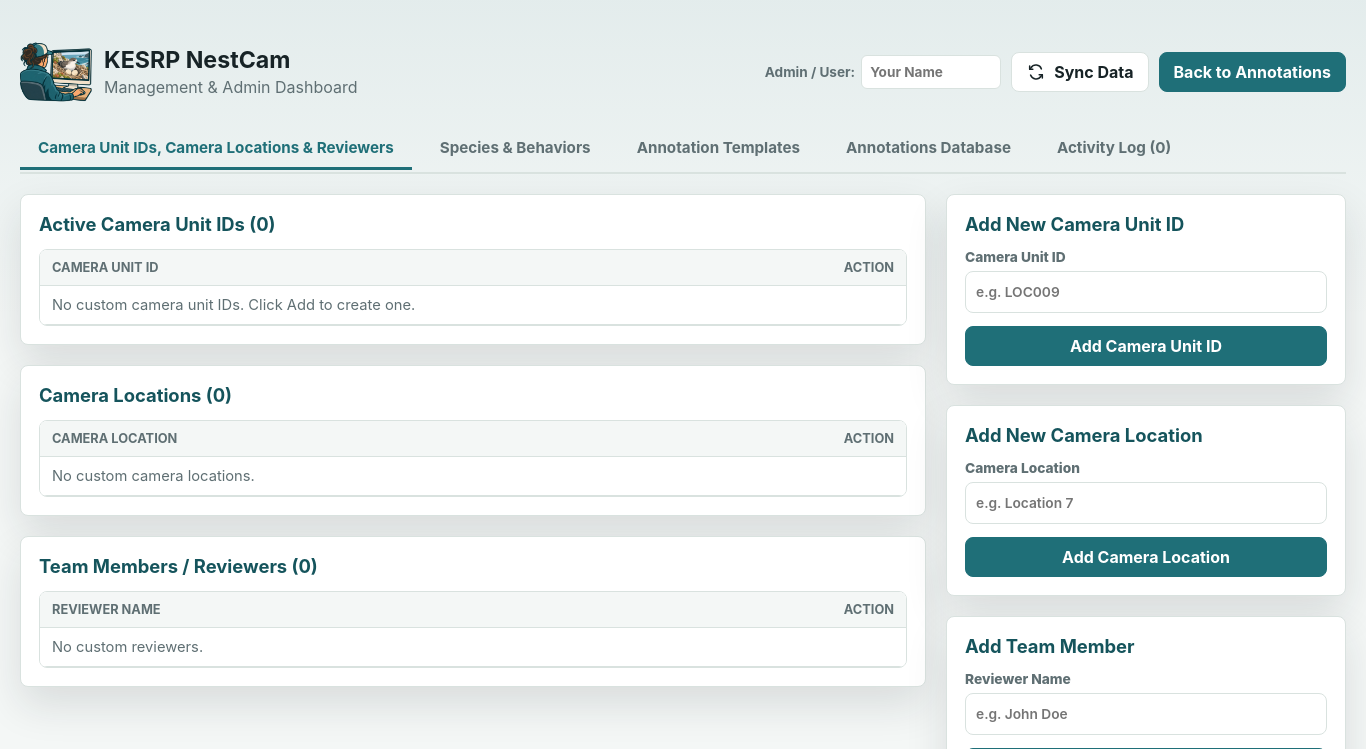
Test: ManagementDashboard › can switch to the Annotations Database tab and view controls
The image size is (1366, 749).
Click the button "Annotations Database".
click(928, 149)  # box x1=828 y1=128 x2=1029 y2=170
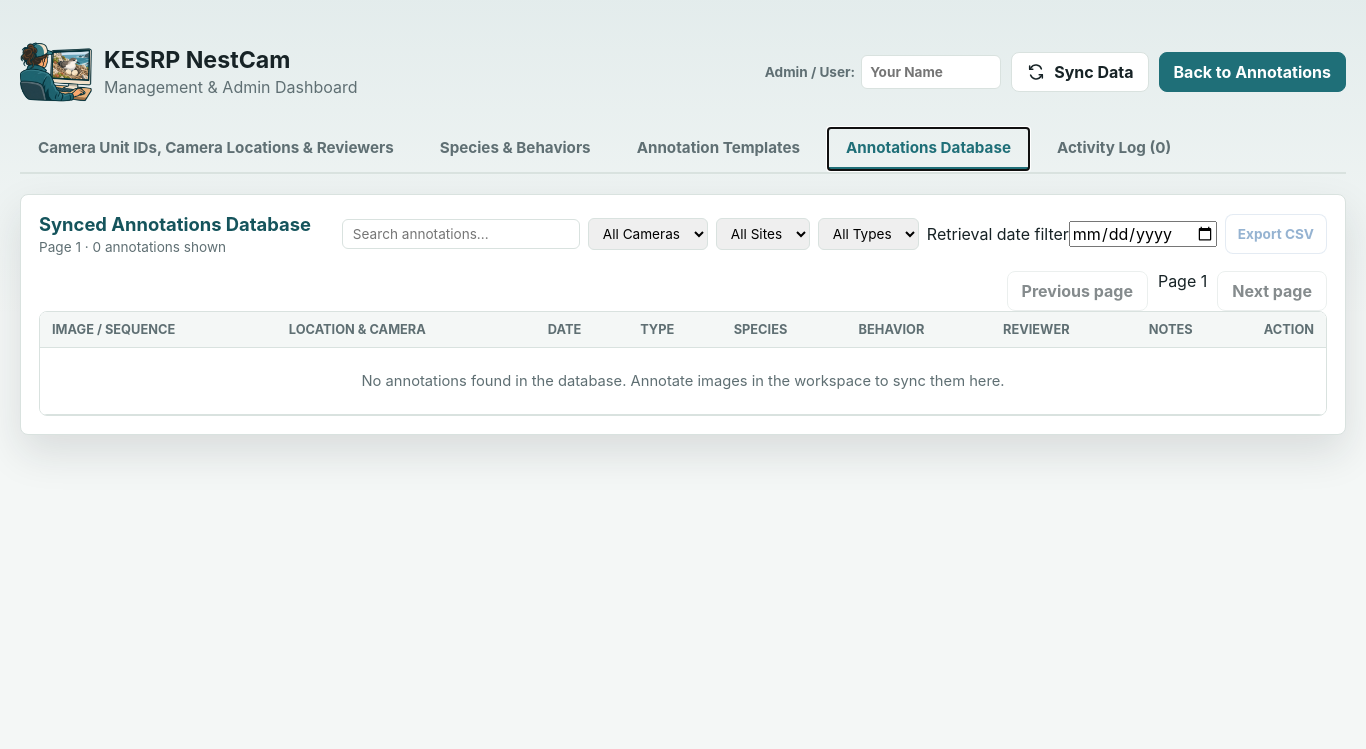
Now the field with placeholder "Search annotations..." is shown, box x1=342 y1=219 x2=580 y2=249
Now the button "Export CSV" is shown, box x1=1225 y1=214 x2=1327 y2=254
